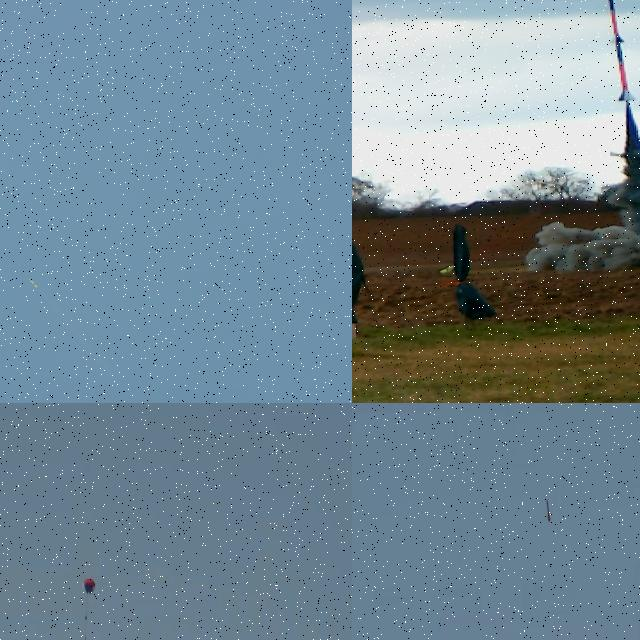Rocket: (606, 0, 637, 101), (546, 499, 551, 522), (28, 279, 39, 288)
